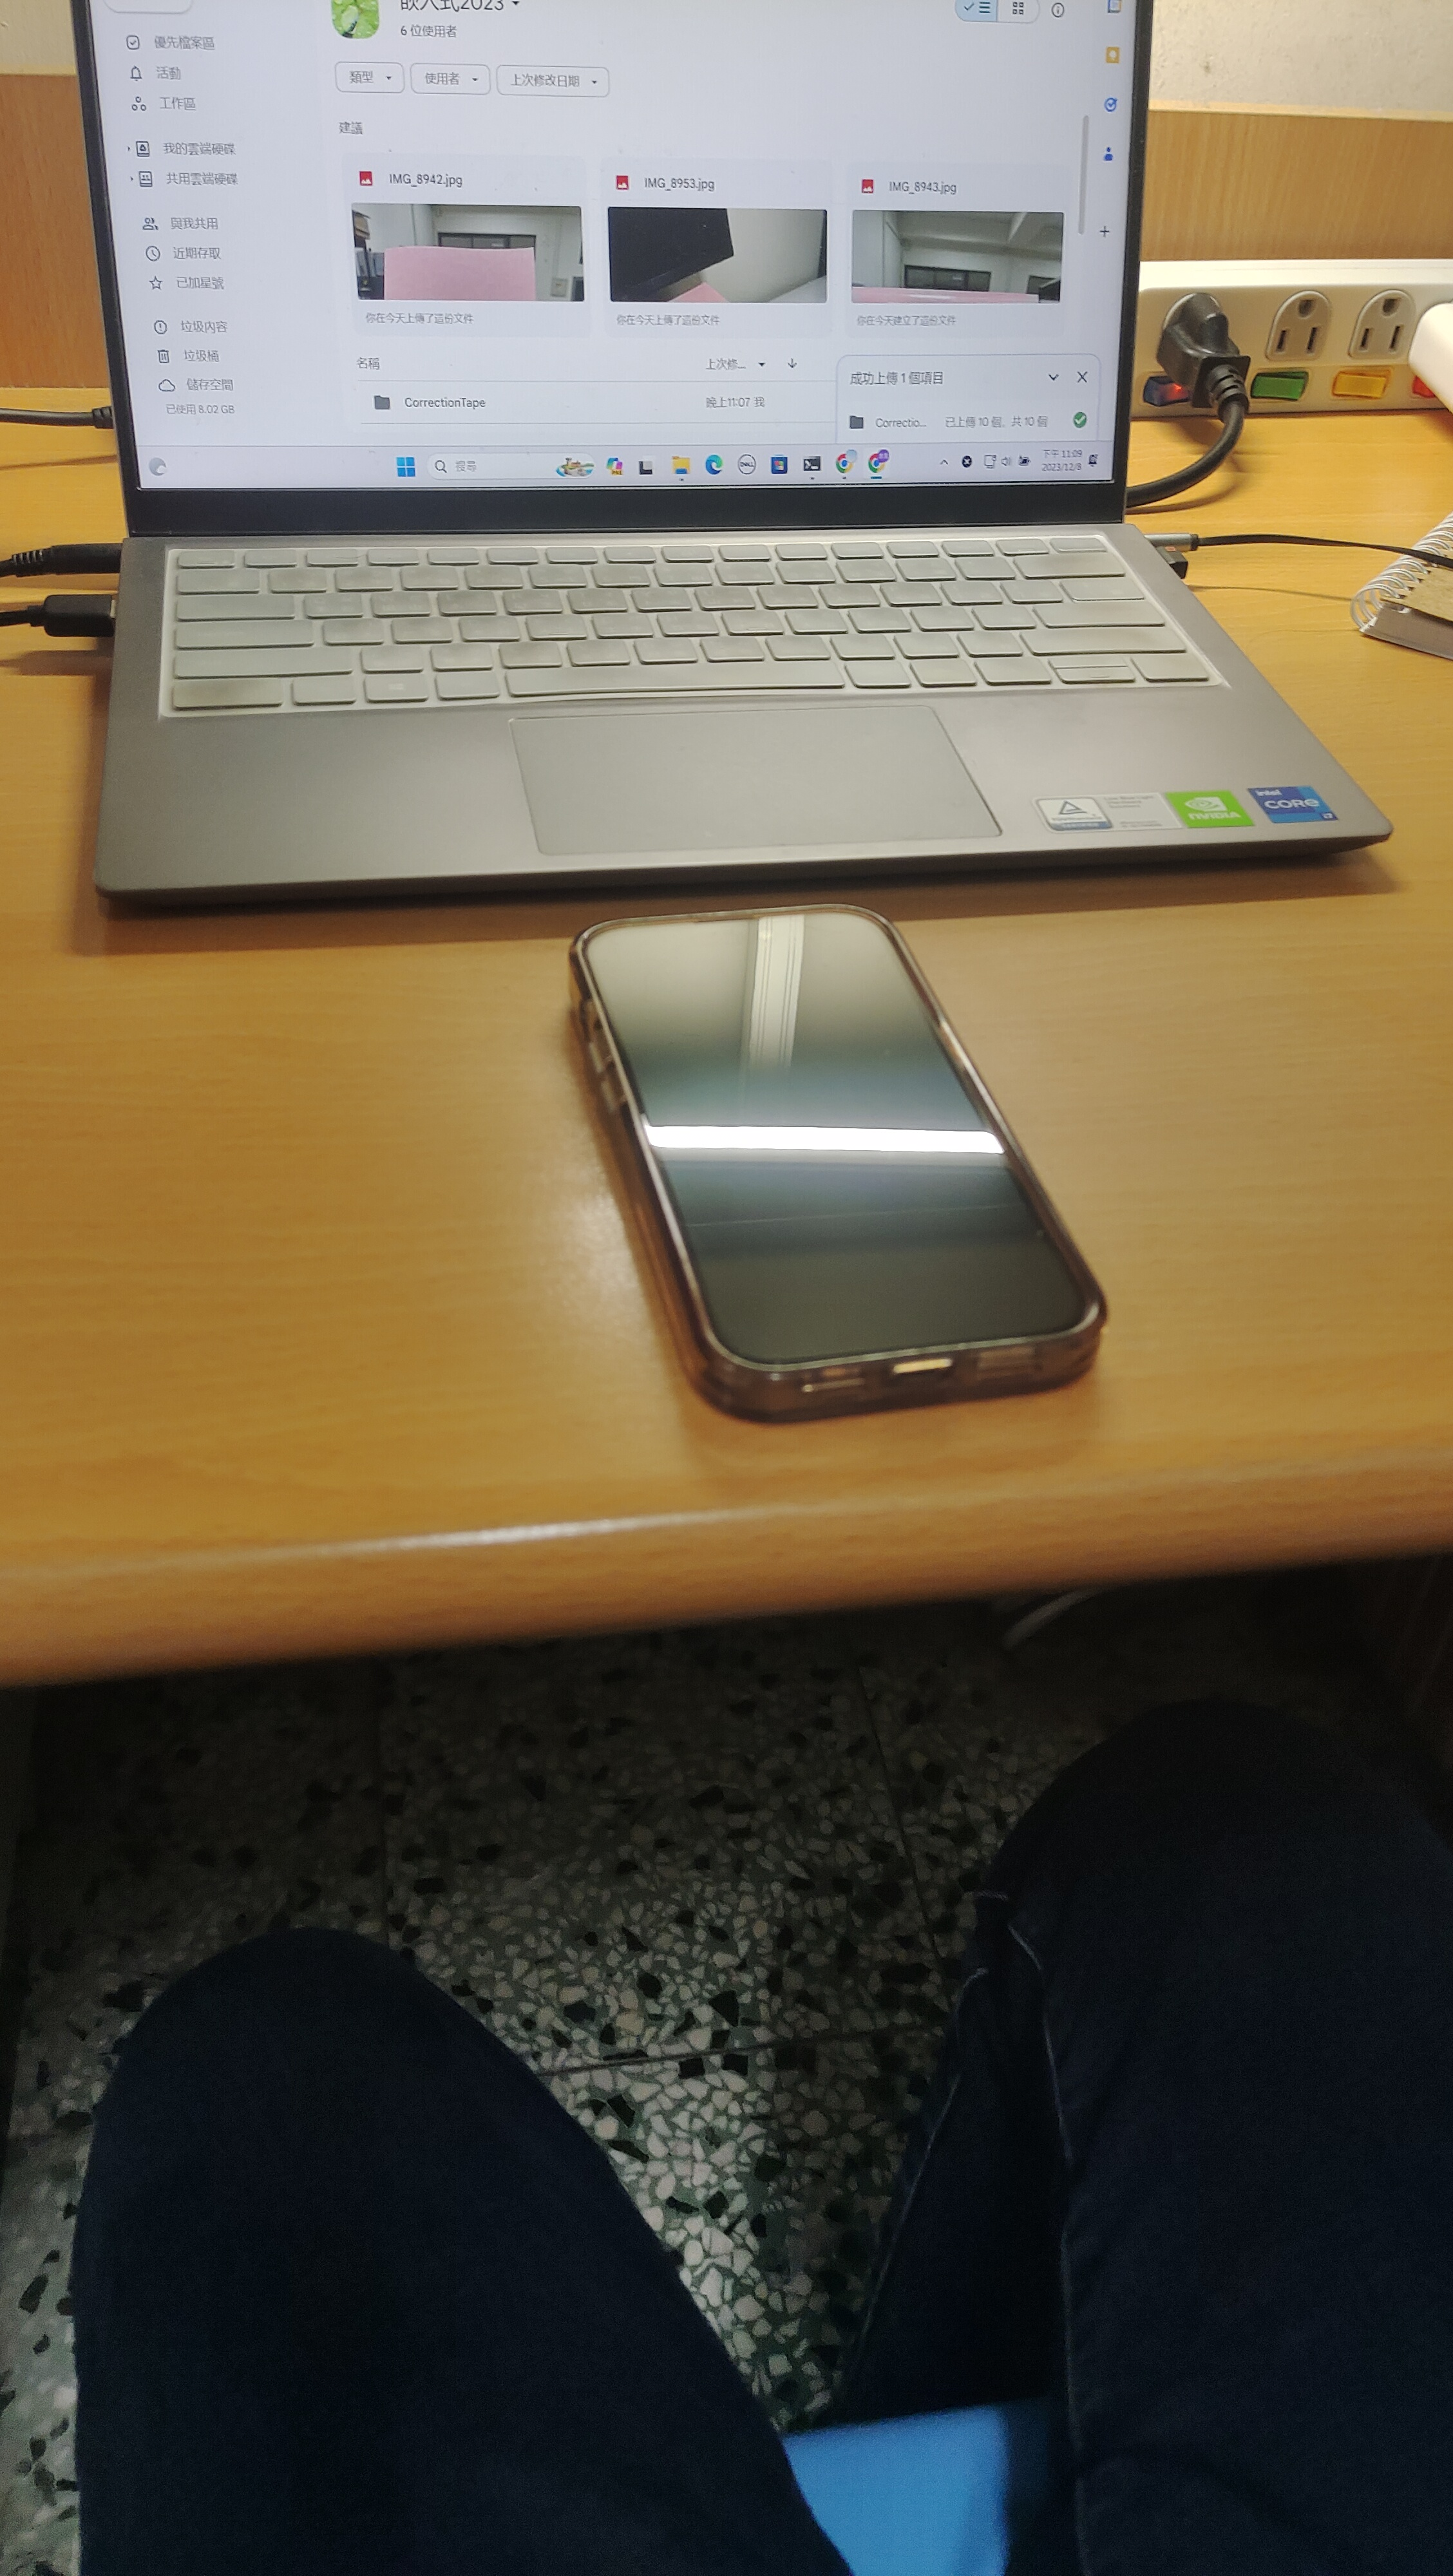iphone: (568, 897, 1113, 1426)
